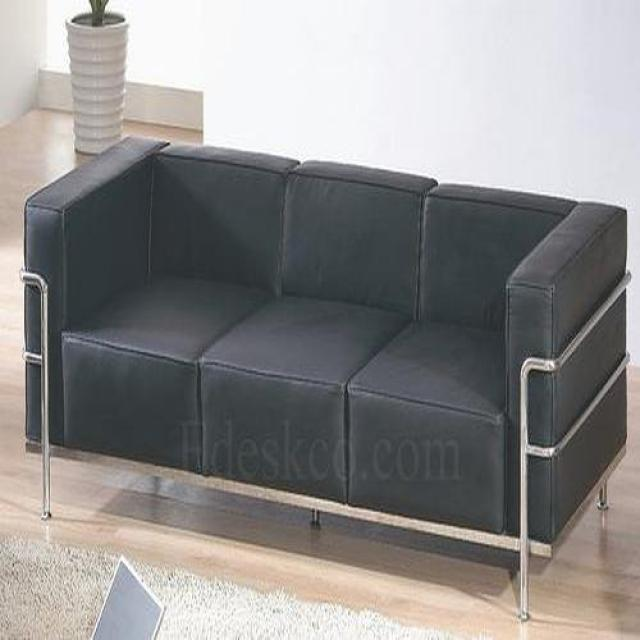sofa: (22, 138, 630, 581)
